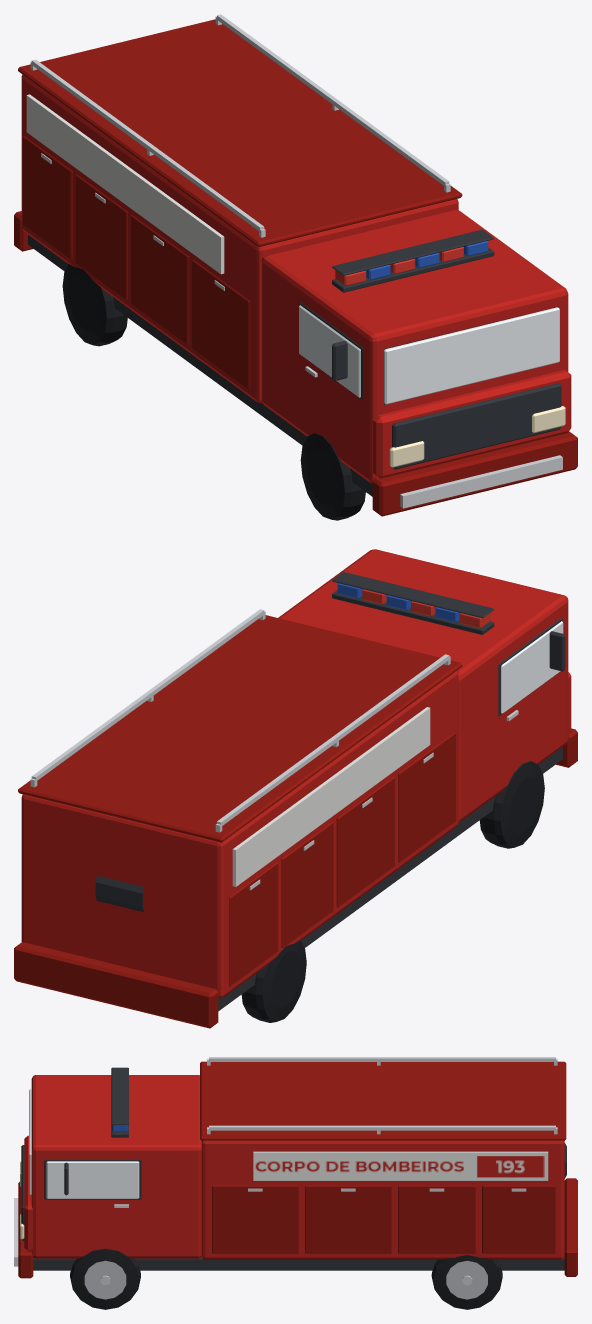
File: Caminhao_Bombeiros.fbx
The picture shows the model from 3 angles, top to bottom: view 1: azimuth 30°, elevation 25°; view 2: azimuth 150°, elevation 25°; view 3: azimuth 270°, elevation 25°; orthographic projection. The views are drawn at different scales.
Visible parts, largest first — view 1: Carroceria, Cabine, Vidro, Caminhao_Bombeiros, Giroflex, Roda0, Roda2; view 2: Carroceria, Cabine, Caminhao_Bombeiros, Giroflex, Roda0, Roda2, Vidro; view 3: Carroceria, Cabine, Caminhao_Bombeiros, Vidro, Roda1, Roda3, Giroflex.
Boxes of the visible parts, bbox=[...] form: Carroceria: bbox=[18, 14, 462, 402]; Cabine: bbox=[261, 210, 571, 483]; Vidro: bbox=[299, 305, 559, 404]; Caminhao_Bombeiros: bbox=[14, 211, 577, 516]; Giroflex: bbox=[332, 229, 494, 292]; Roda0: bbox=[300, 433, 365, 520]; Roda2: bbox=[62, 264, 127, 346]; Carroceria: bbox=[18, 609, 462, 998]; Cabine: bbox=[278, 549, 571, 822]; Caminhao_Bombeiros: bbox=[14, 728, 577, 1028]; Giroflex: bbox=[332, 572, 494, 634]; Roda0: bbox=[479, 761, 544, 848]; Roda2: bbox=[241, 940, 306, 1022]; Vidro: bbox=[501, 621, 563, 713]; Carroceria: bbox=[200, 1057, 566, 1259]; Cabine: bbox=[20, 1075, 201, 1258]; Caminhao_Bombeiros: bbox=[14, 1178, 577, 1278]; Vidro: bbox=[29, 1089, 139, 1198]; Roda1: bbox=[70, 1248, 140, 1309]; Roda3: bbox=[431, 1255, 502, 1309]; Giroflex: bbox=[111, 1067, 128, 1137].
Bounding box in the file's own units: 2.76 × 2.73 × 7.64.
2 materials, 2 textured.
